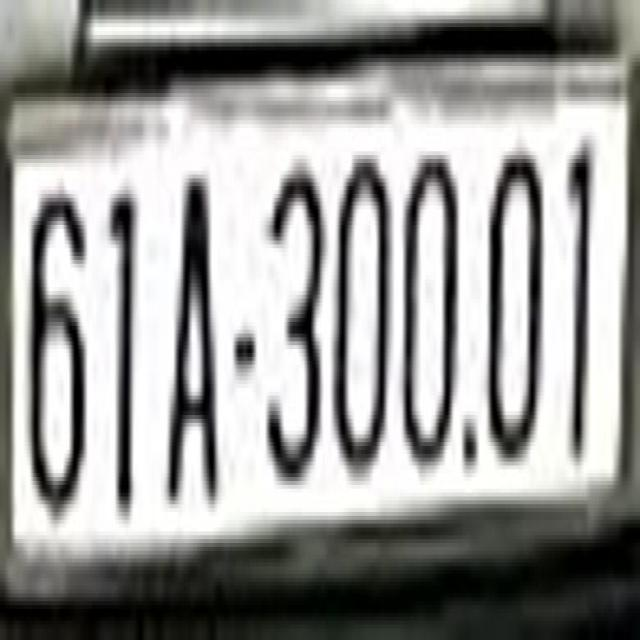0: (400, 132, 461, 492), (333, 124, 389, 489), (486, 128, 543, 481)
1: (99, 152, 150, 536), (558, 109, 605, 477)
3: (266, 120, 322, 504)
6: (24, 171, 90, 543)
A: (164, 156, 223, 532)
